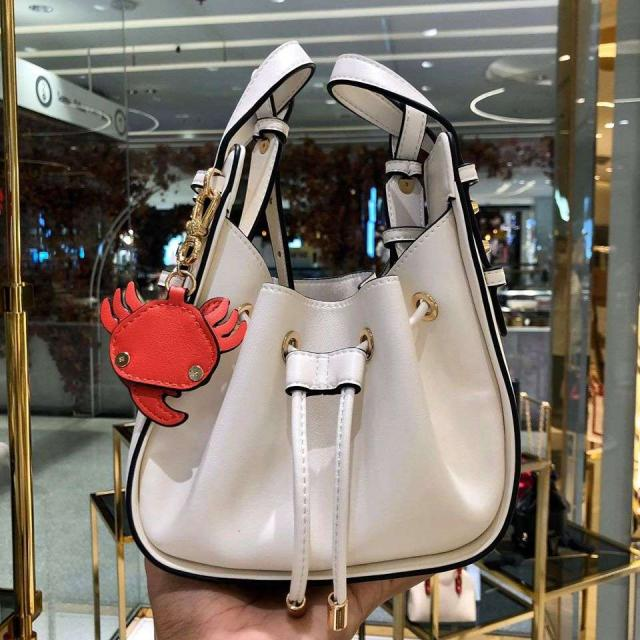Handbag: (111, 182, 516, 591)
